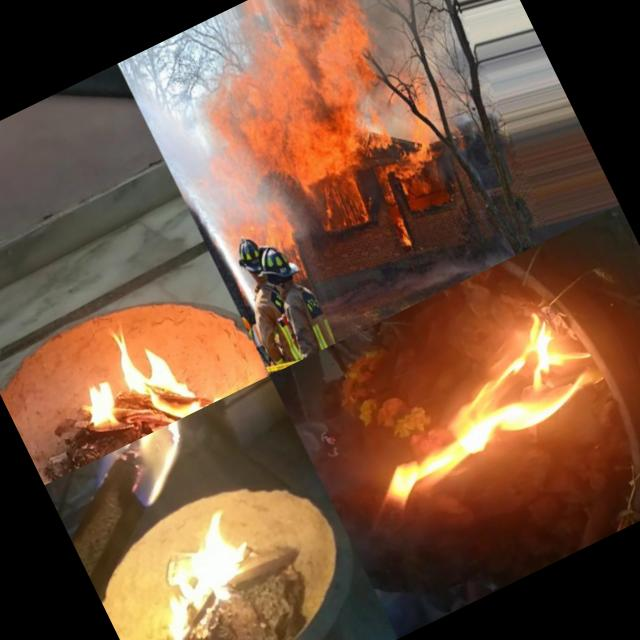fire: (317, 418, 510, 638), (206, 0, 415, 202), (127, 509, 270, 640), (75, 412, 224, 532), (102, 306, 196, 421), (183, 77, 267, 198), (362, 128, 445, 201), (68, 358, 133, 439), (302, 167, 372, 241), (252, 200, 304, 258), (394, 76, 442, 133), (192, 378, 239, 410), (391, 212, 418, 252)
smoke: (270, 319, 418, 444), (128, 65, 234, 216)
